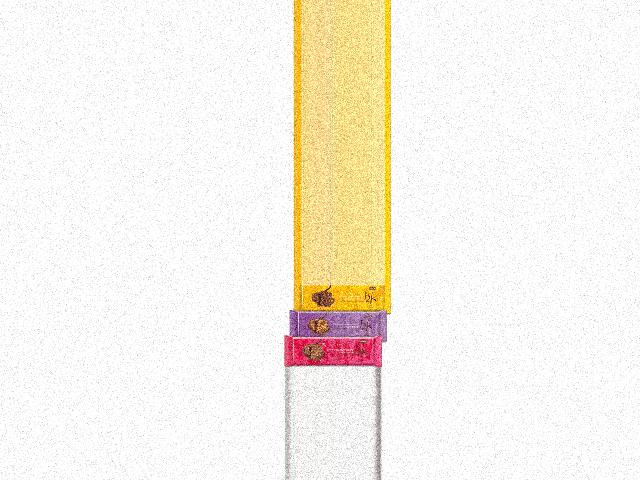chocolate: (278, 336, 386, 368)
